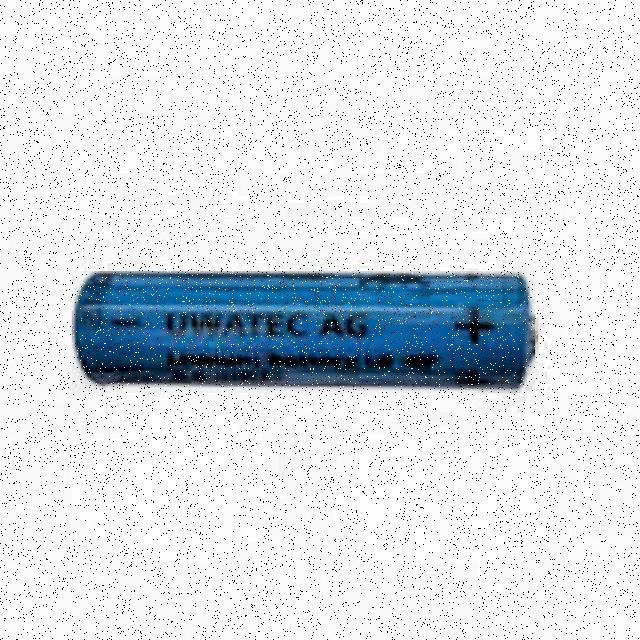B3: (72, 224, 562, 453)
